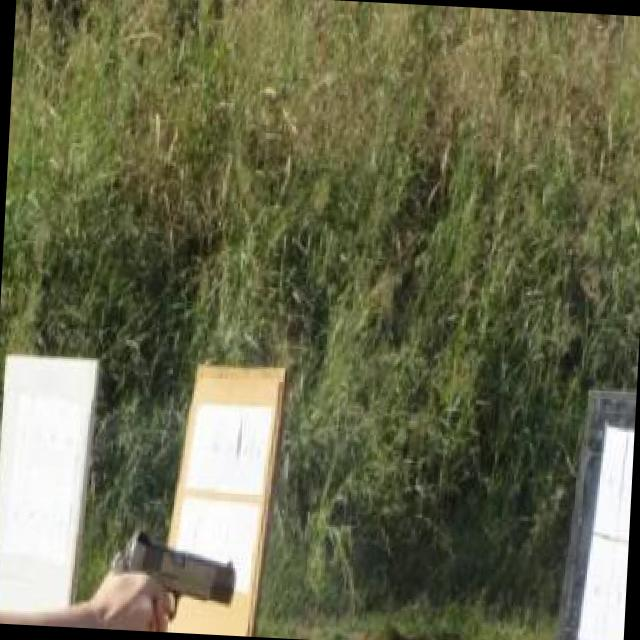Guns: (88, 504, 262, 637)
